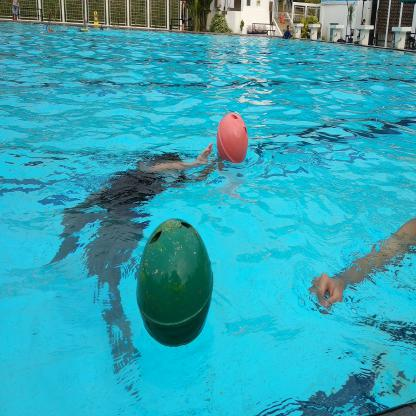green_buoy: (135, 214, 216, 350)
red_buoy: (214, 108, 251, 172)
